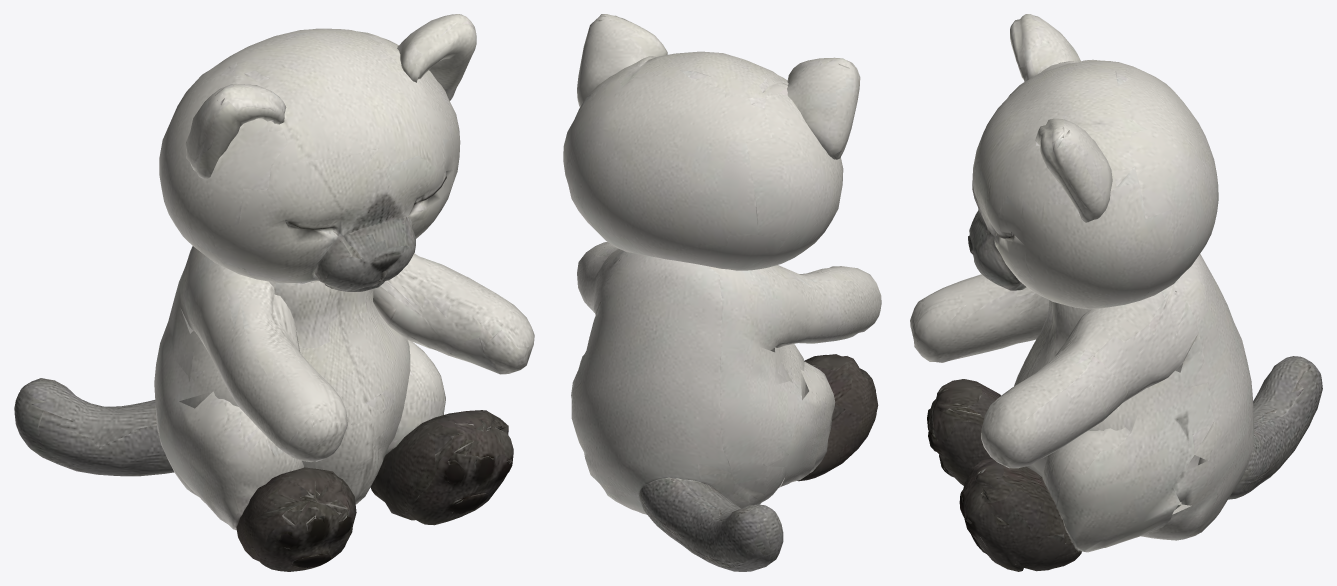
File: kitten.glb
3 renders of one model, left to right at view 1: azimuth 30°, elevation 25°; view 2: azimuth 150°, elevation 25°; view 3: azimuth 270°, elevation 25°, orthographic. The views are drawn at different scales.
Bounding box in the file's own units: 0.7568 × 0.9502 × 0.7759.
Materials: 1 (1 with a texture image).
